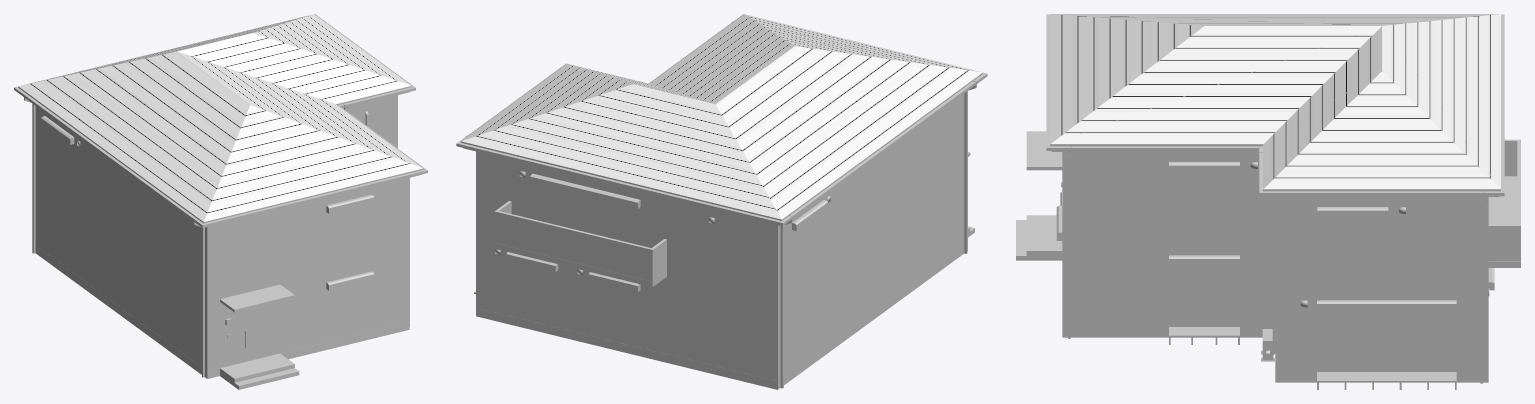
File: House_2021_Q.fbx
3 views of the same model, side by side, from view 1: azimuth 30°, elevation 25°; view 2: azimuth 150°, elevation 25°; view 3: azimuth 270°, elevation 25° (orthographic). The views are drawn at different scales.
Visible parts, largest first — view 1: House_2021_Q; view 2: House_2021_Q; view 3: House_2021_Q.
Boxes of the visible parts, x1,y1,x2,y2 form: House_2021_Q: (14,14,427,389); House_2021_Q: (456,14,987,389); House_2021_Q: (1016,14,1520,389).
Size of the model in its own units: 1205 by 781 by 1421.
